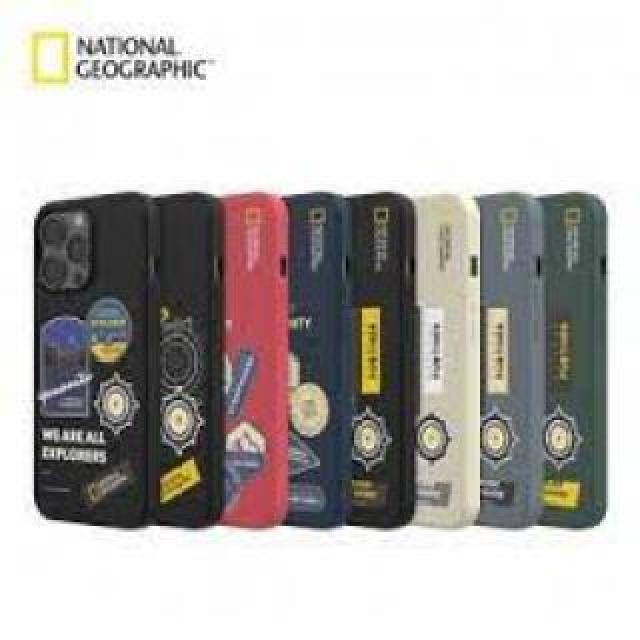smart phone: (32, 188, 160, 528), (533, 178, 612, 530), (342, 184, 420, 524), (290, 182, 357, 536), (422, 177, 480, 528), (162, 188, 218, 528), (486, 178, 536, 538), (234, 187, 288, 503)
